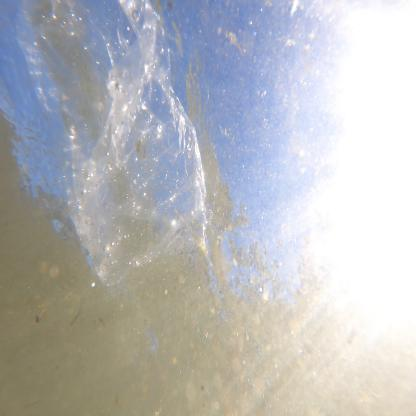Rác: (20, 6, 213, 254)
